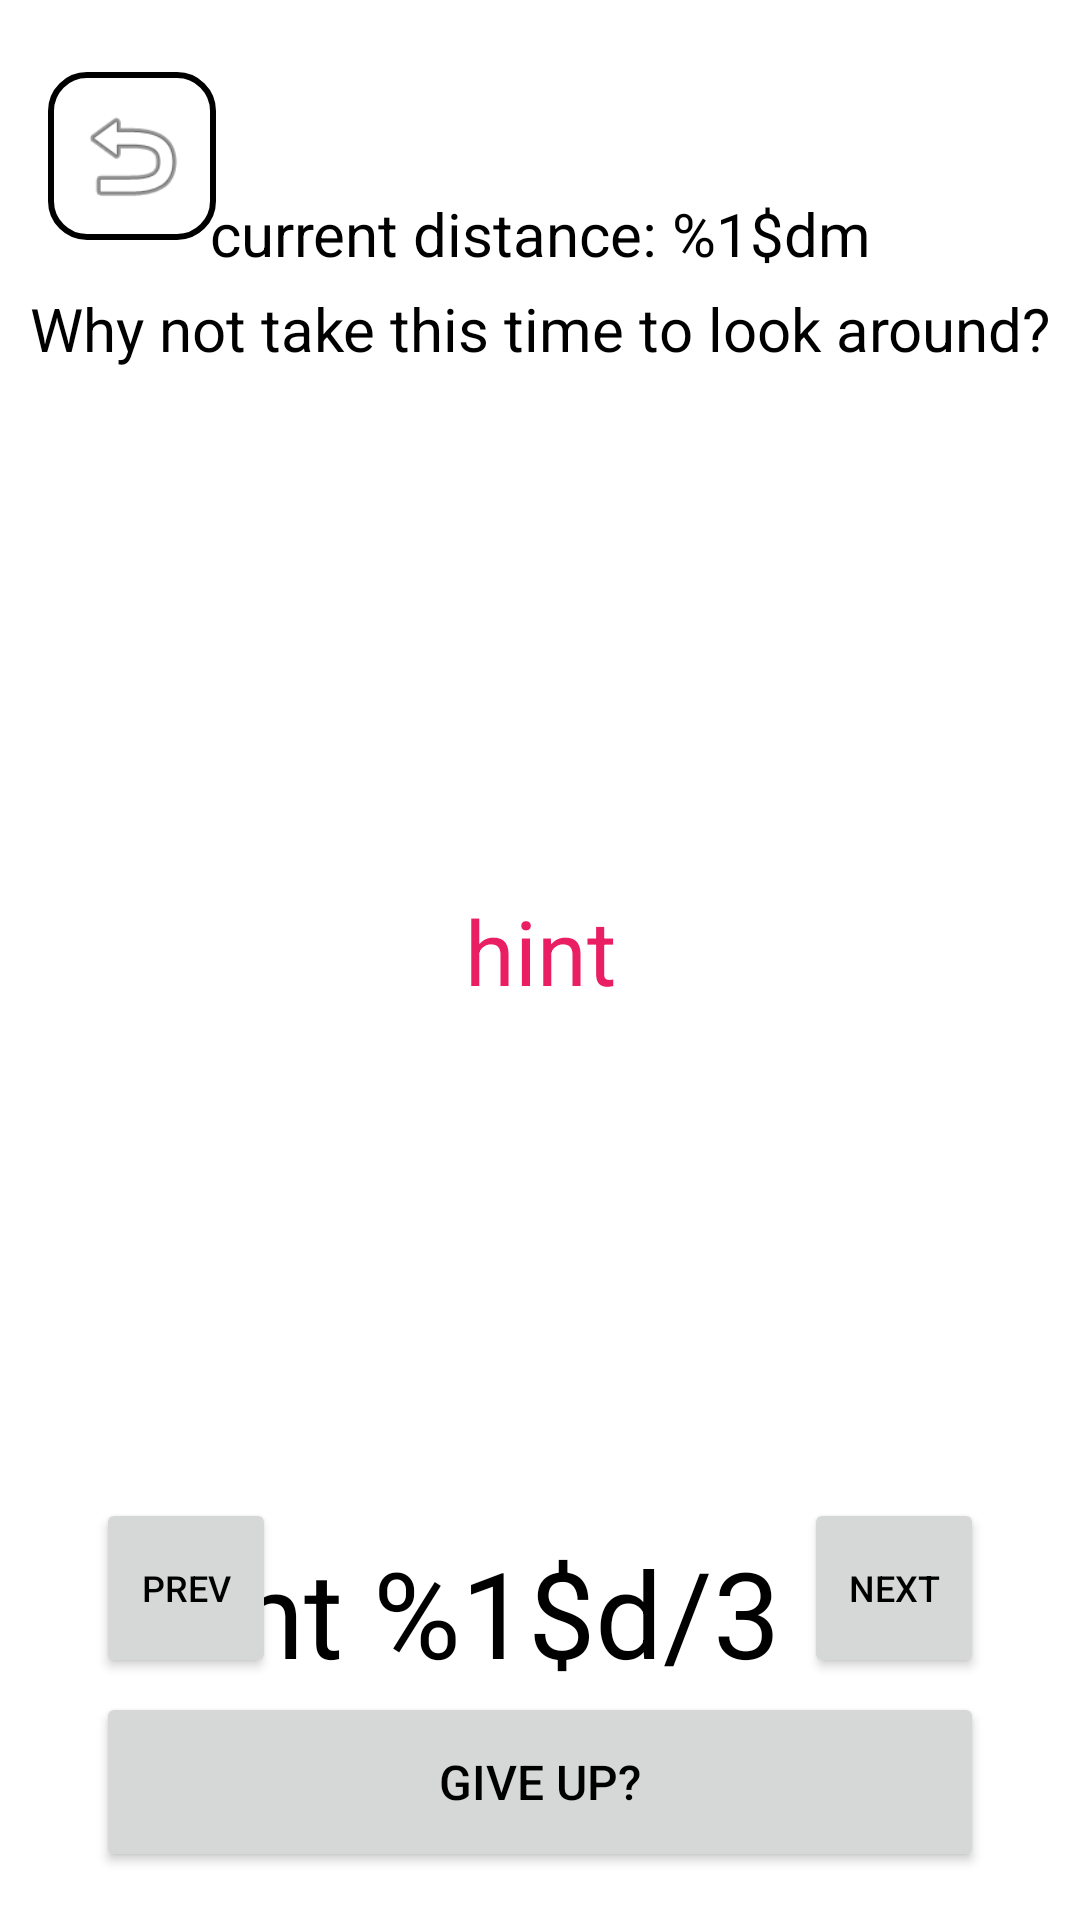

Where icons sit on this 1080px x 1920px app screen, as (x1=x1, y1=y1, x2=x2, y2=y2):
revert: (x1=48, y1=72, x2=216, y2=240)
